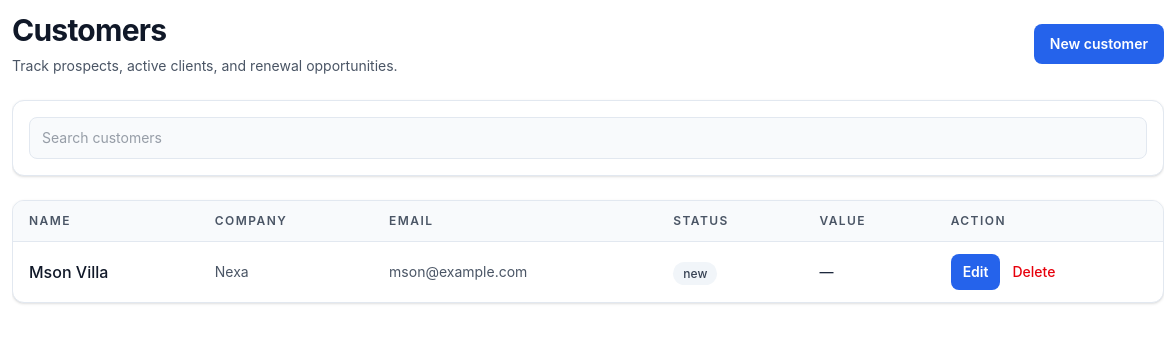
Test case: CRM list pages › loads and filters customers by name
This screenshot has width=1164, height=345.
Check: the text "Mson Villa" is shown, box [29,262,108,282]
Type "missing" into the search field with placeholder "Search customers" at [588, 138], box [29,117,1147,159]
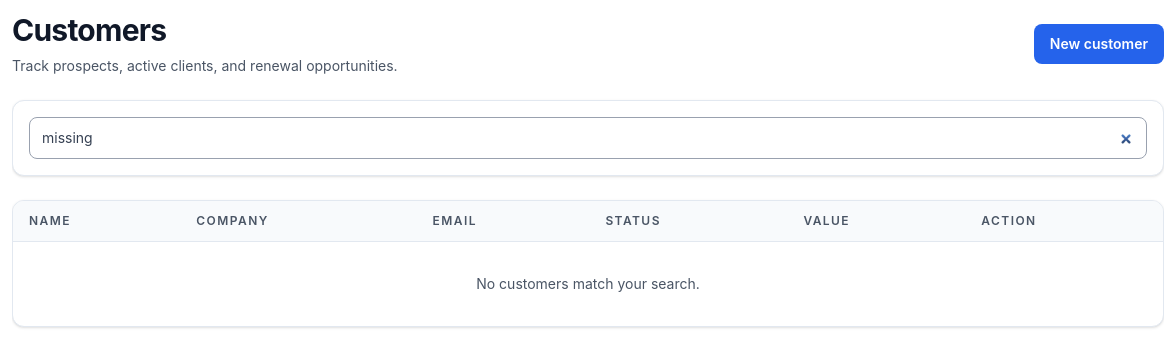
Check: the text "No customers match your search." is shown, box [476,275,700,292]
Check: the text "Mson Villa" is gone
